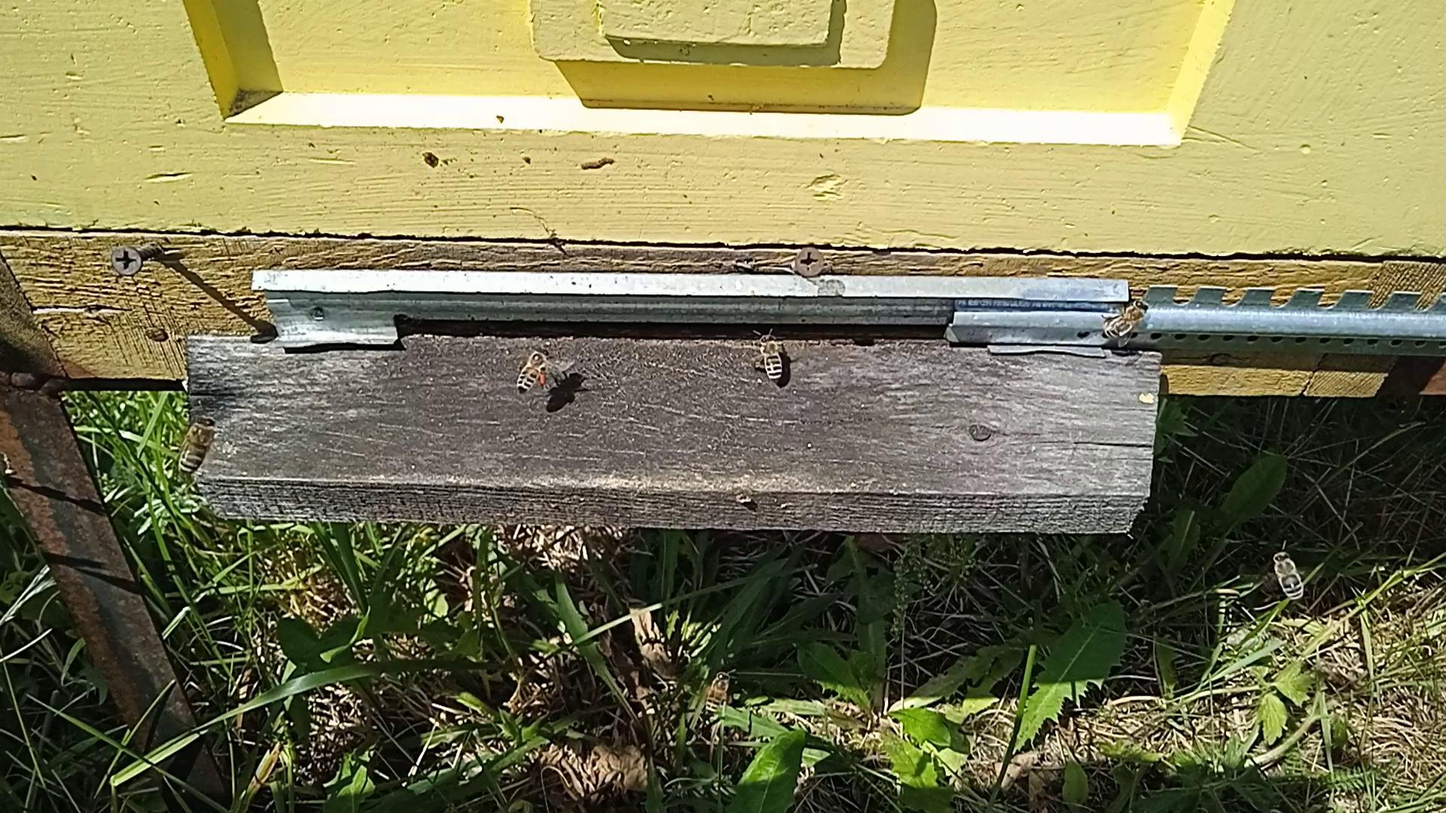worker-bee: (178, 416, 218, 474), (1103, 298, 1149, 340), (516, 348, 554, 394), (756, 332, 789, 384), (1271, 550, 1304, 601), (704, 670, 732, 714)
